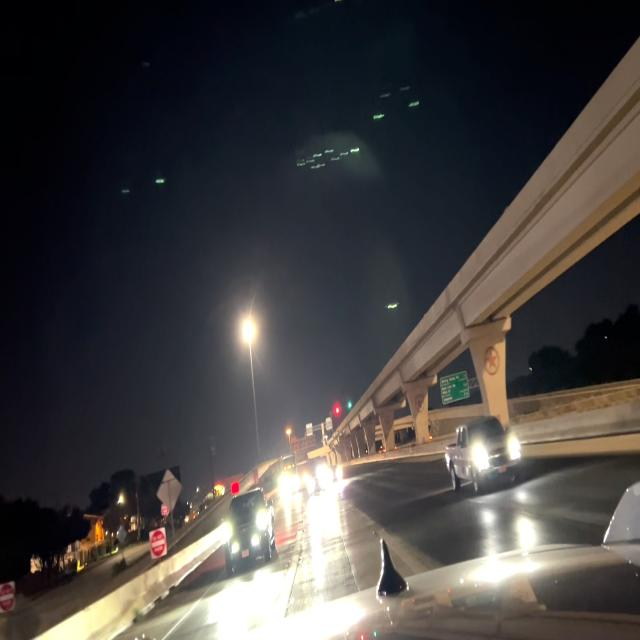back-of-sign: (156, 469, 182, 515), (291, 435, 320, 454), (251, 465, 262, 490)
